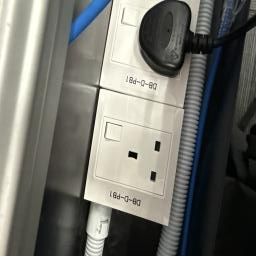outlet: (82, 105, 184, 217), (92, 0, 203, 92)
